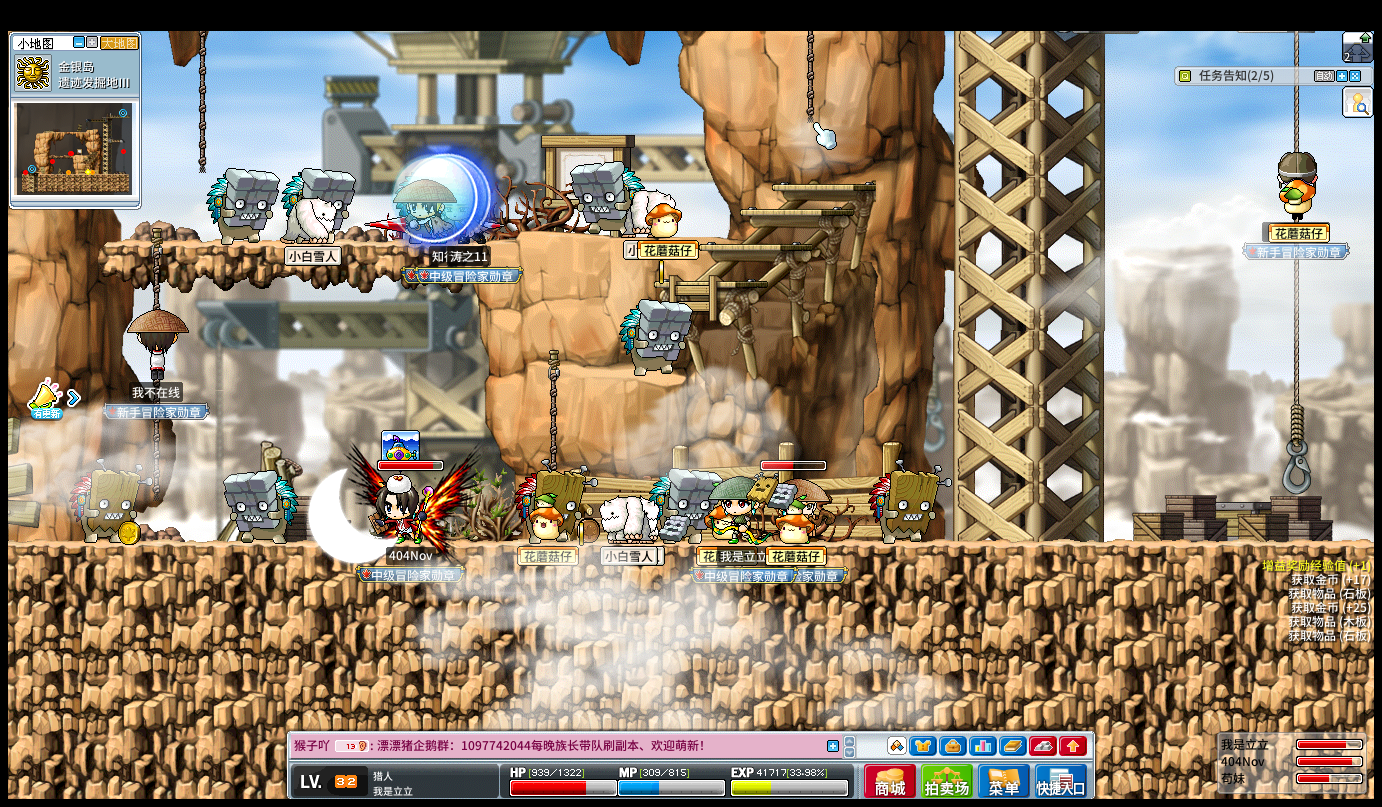floor: (100, 237, 478, 249), (575, 367, 686, 387), (738, 205, 852, 215), (607, 232, 735, 240), (650, 279, 765, 287), (699, 243, 810, 251), (736, 207, 848, 214), (771, 184, 875, 191)
monster: (67, 462, 144, 544), (869, 464, 946, 542), (618, 300, 692, 374), (206, 167, 278, 242), (224, 470, 296, 544), (570, 160, 640, 234), (651, 469, 717, 532), (283, 167, 355, 204)
rope: (546, 349, 561, 468), (1291, 256, 1302, 406), (198, 31, 207, 174), (150, 227, 162, 308), (1292, 30, 1299, 149), (805, 29, 813, 123), (155, 419, 164, 497), (1289, 399, 1304, 444), (151, 419, 159, 498)
